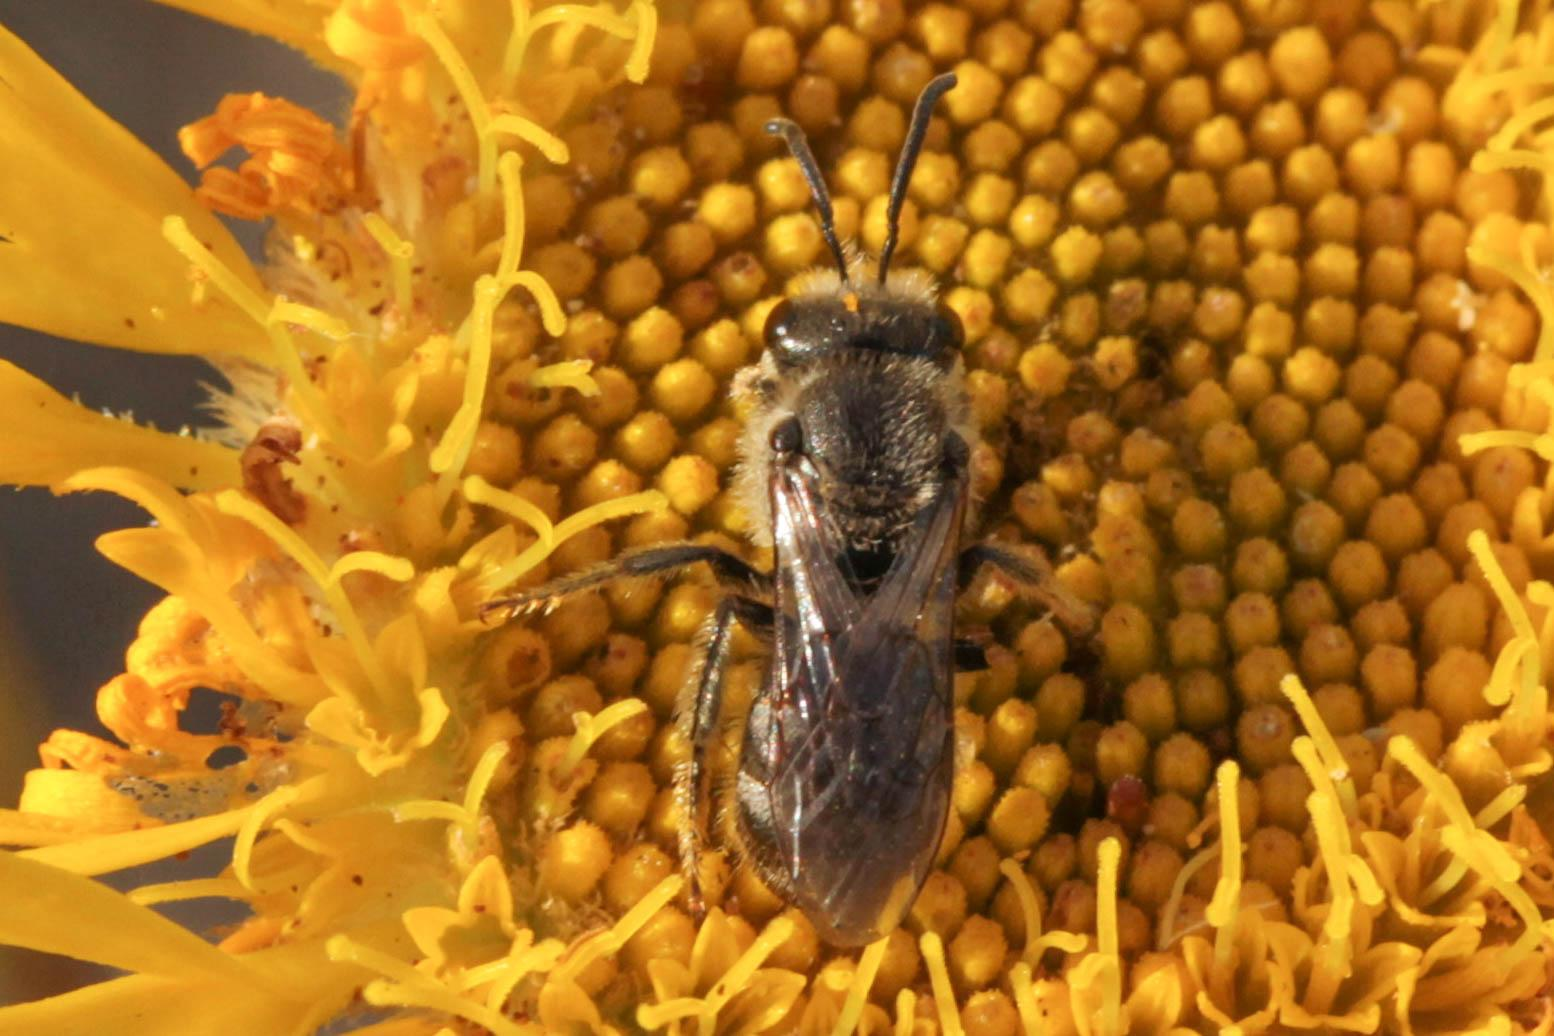Allodapula: (527, 52, 1107, 985)
